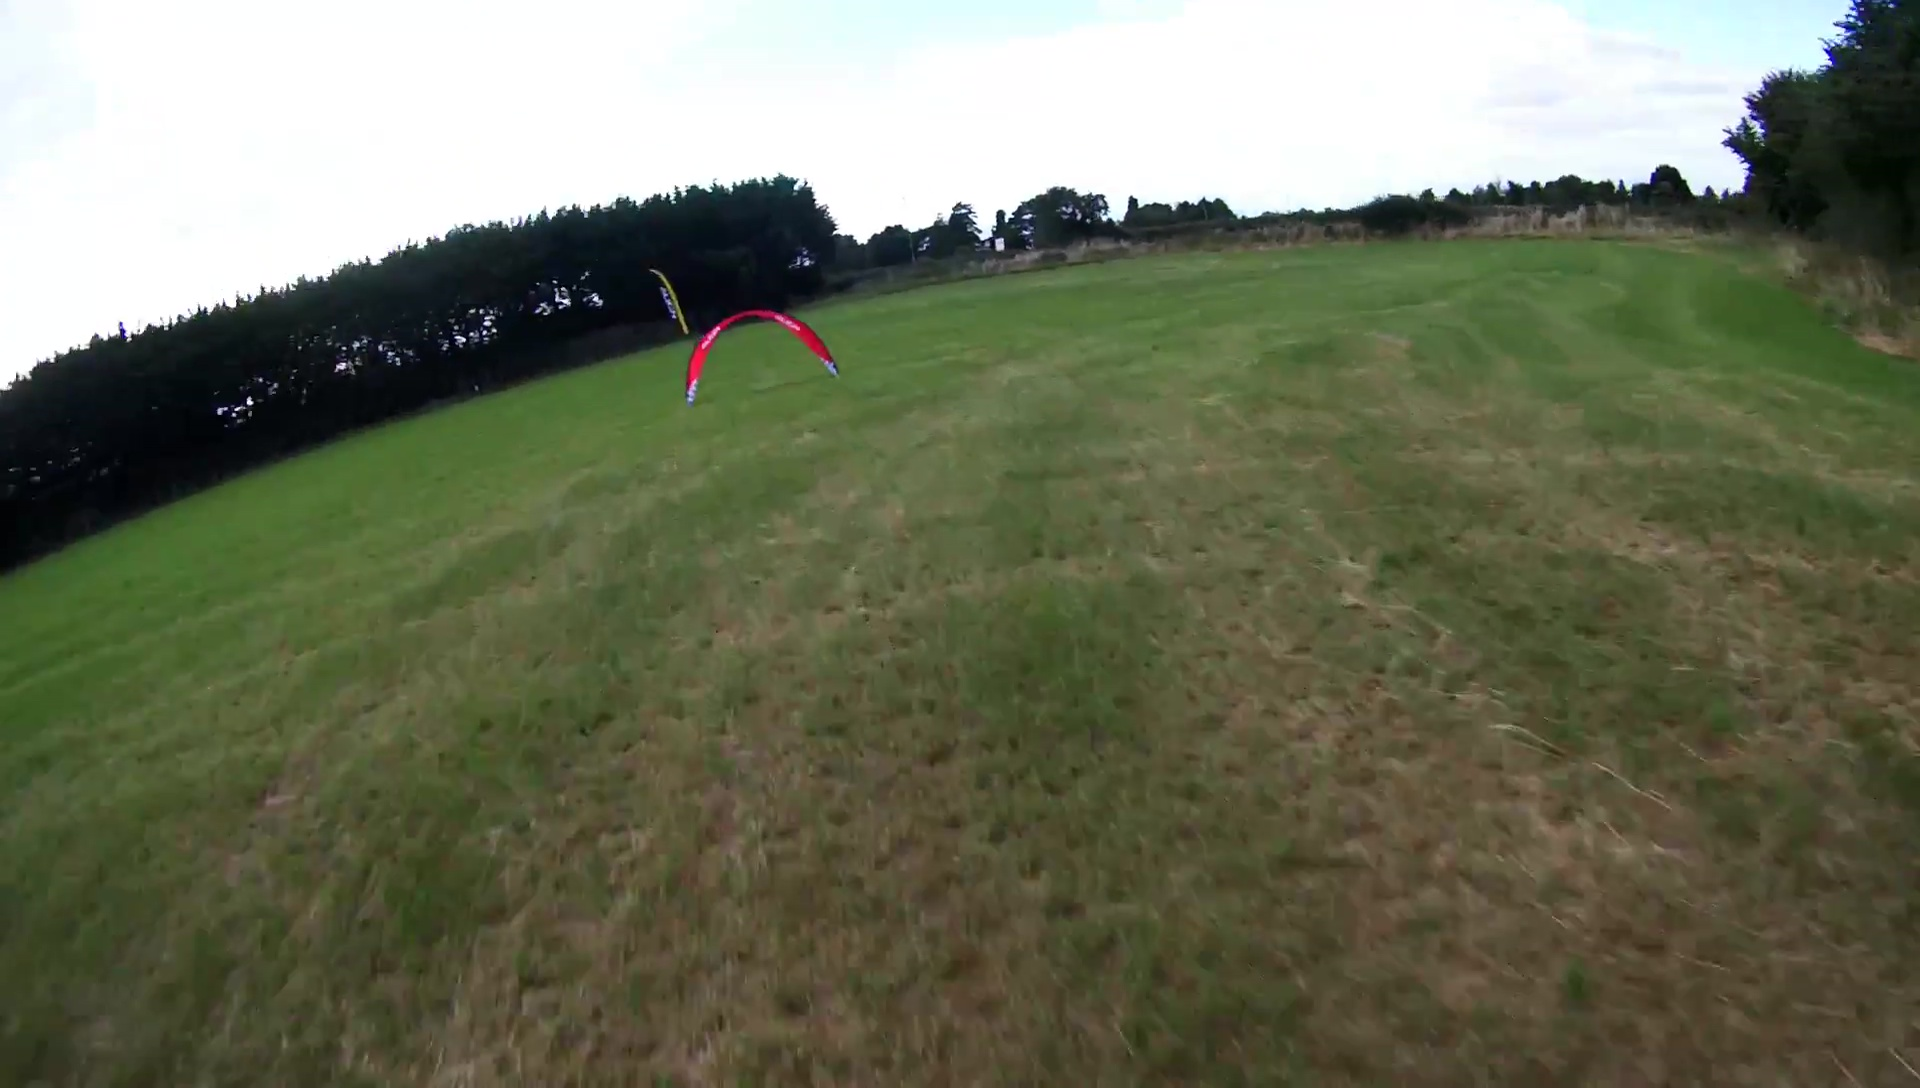gate: (684, 306, 847, 405)
